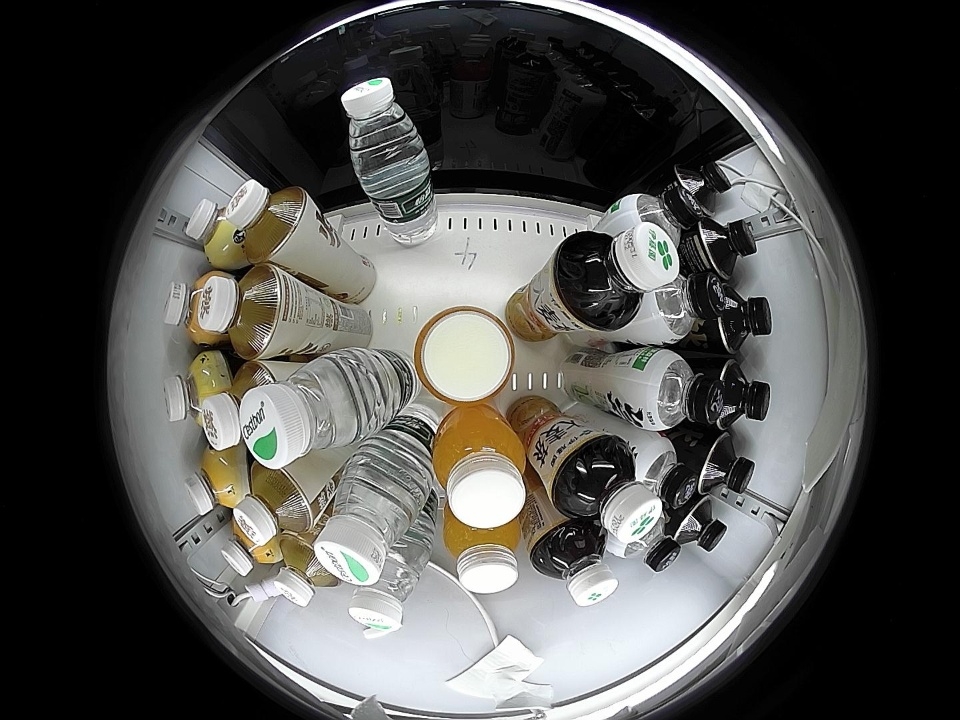asamu: (163, 353, 224, 424), (184, 448, 245, 515), (164, 272, 218, 347), (185, 198, 241, 265), (221, 523, 278, 577)
damaicha: (558, 223, 679, 329), (552, 436, 663, 542), (531, 522, 617, 607)
rancha-1: (714, 283, 773, 354), (692, 217, 758, 279), (713, 360, 772, 429), (696, 433, 756, 495), (672, 159, 732, 216), (670, 495, 728, 552)
rancha-2: (198, 265, 288, 360), (233, 465, 320, 545), (225, 179, 307, 263), (202, 362, 274, 451), (274, 535, 342, 608)
weic: (430, 408, 529, 529), (413, 305, 517, 405), (442, 509, 523, 593)
yibao: (242, 354, 367, 468), (313, 461, 424, 585), (341, 76, 427, 170), (348, 554, 424, 635)
yuanqishui: (629, 349, 726, 431), (639, 272, 725, 345), (619, 181, 701, 246), (631, 435, 700, 509), (615, 513, 681, 572)
